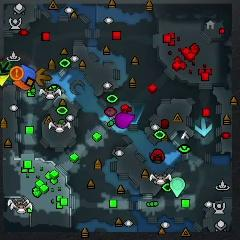Other: (9, 65, 23, 80)
p1: (20, 63, 37, 84)
p2: (170, 177, 185, 197)
p3: (116, 112, 133, 129)
p4: (0, 74, 11, 87)
p5: (13, 78, 32, 90)
x3: (195, 118, 212, 137)
x4Clone: (0, 60, 13, 76)
x5: (35, 68, 51, 84)
